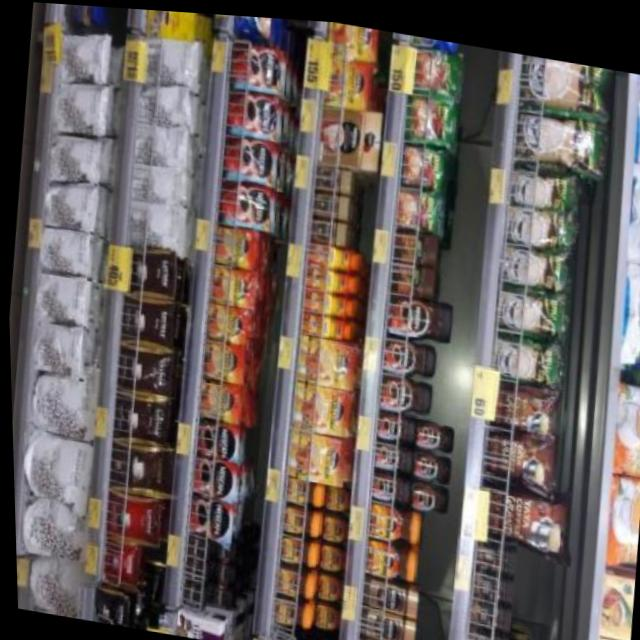Coffee: (382, 287, 451, 339), (287, 379, 349, 433), (293, 332, 354, 386), (227, 38, 287, 92), (214, 176, 273, 229), (284, 427, 341, 480), (219, 131, 276, 183), (319, 52, 372, 106), (224, 86, 280, 137), (376, 329, 433, 375), (372, 368, 429, 413), (363, 496, 417, 539), (359, 533, 413, 575), (185, 453, 234, 498), (355, 574, 414, 611), (209, 221, 256, 267), (181, 492, 228, 538), (194, 375, 239, 421), (206, 261, 253, 305), (353, 605, 410, 640), (199, 337, 244, 381), (203, 299, 247, 343), (325, 17, 377, 54), (191, 417, 236, 459), (299, 283, 352, 314), (410, 411, 452, 450), (301, 261, 355, 291), (367, 464, 407, 502), (298, 308, 351, 336), (408, 444, 448, 480), (372, 404, 412, 440), (368, 435, 410, 469), (406, 474, 446, 509), (304, 241, 356, 266), (273, 532, 313, 564), (276, 501, 314, 534), (271, 563, 308, 595), (268, 593, 306, 624), (311, 158, 350, 188), (280, 473, 317, 504), (309, 186, 347, 215), (308, 213, 344, 242), (312, 569, 340, 599), (317, 511, 344, 540), (315, 540, 342, 567), (309, 598, 335, 626), (321, 480, 346, 509), (177, 581, 198, 607), (210, 559, 231, 581), (207, 584, 227, 607), (180, 558, 201, 579), (182, 533, 201, 555), (212, 539, 230, 558), (352, 635, 409, 640)
